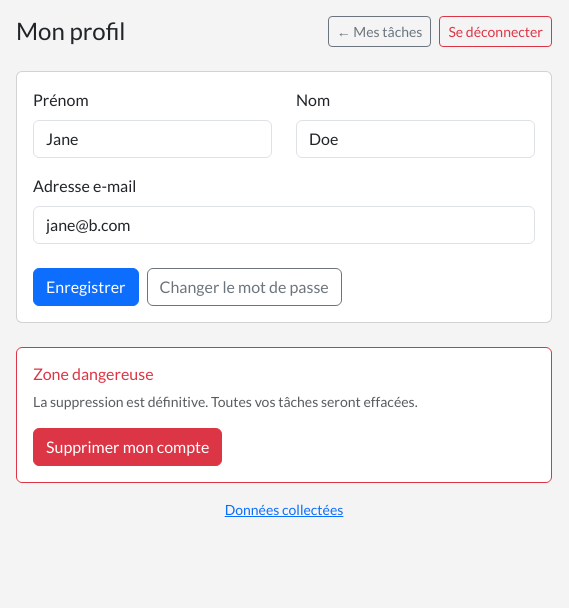
shows an error when saving fails
Click the button "Enregistrer".
click(86, 287)  # box [33,268,138,306]
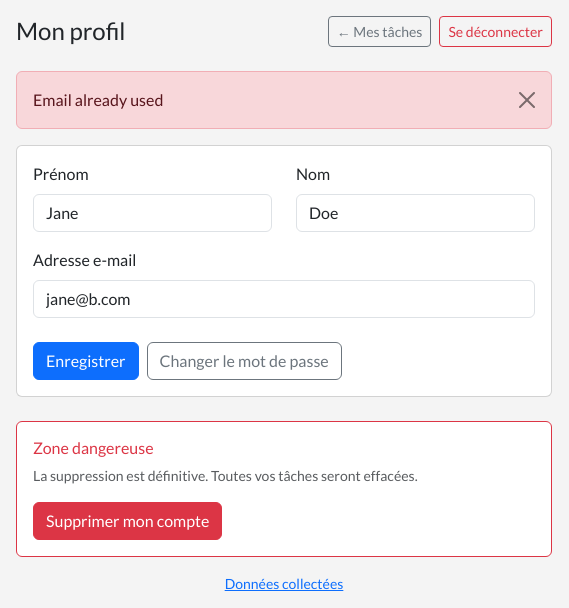
Expected: the text "Email already used" is shown, [16,71,552,129]
